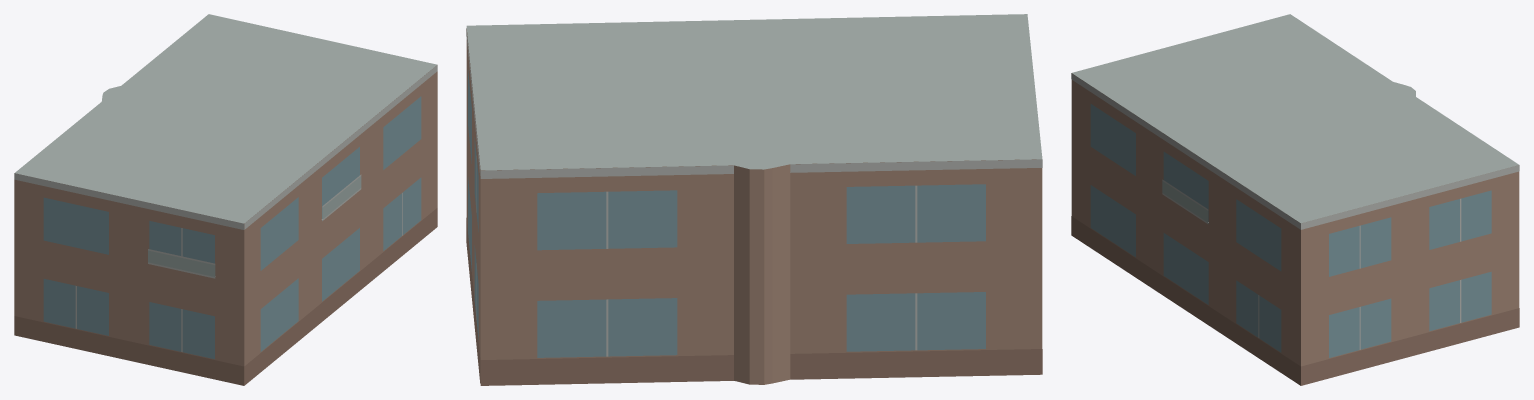
The model's file is survey-upis-32917992.glb.
3 renders of one model, left to right at view 1: azimuth 30°, elevation 25°; view 2: azimuth 150°, elevation 25°; view 3: azimuth 270°, elevation 25°, orthographic. The views are drawn at different scales.
Parts seen in each view (by area): view 1: survey-upis-32917992.tmp; view 2: survey-upis-32917992.tmp; view 3: survey-upis-32917992.tmp.
Part boxes in pixels (left/top/right/bottom): survey-upis-32917992.tmp: left=14, top=14, right=437, bottom=385; survey-upis-32917992.tmp: left=466, top=14, right=1042, bottom=385; survey-upis-32917992.tmp: left=1071, top=14, right=1519, bottom=385.
Bounding box in the file's own units: 16.87 × 6.1 × 15.25.
